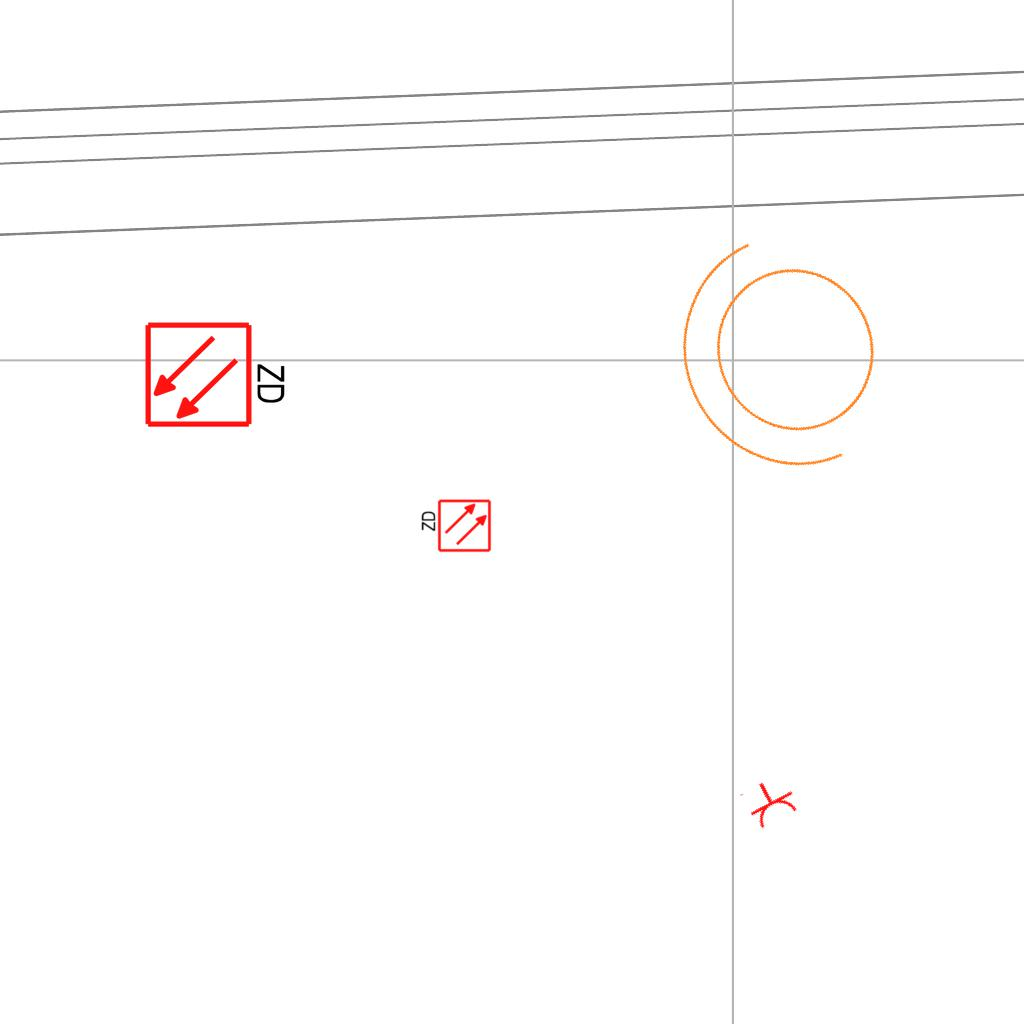Scheinwerfer_fuer_Alarmbeleuchtung: (632, 193, 946, 526)
Schukosteckdose_einfach: (737, 771, 802, 833)
ZD_Melder_in_Zwischendecke_mit_Revisionsoeffnung_mind_40_x_40_cm: (143, 316, 292, 430), (418, 498, 492, 555)
